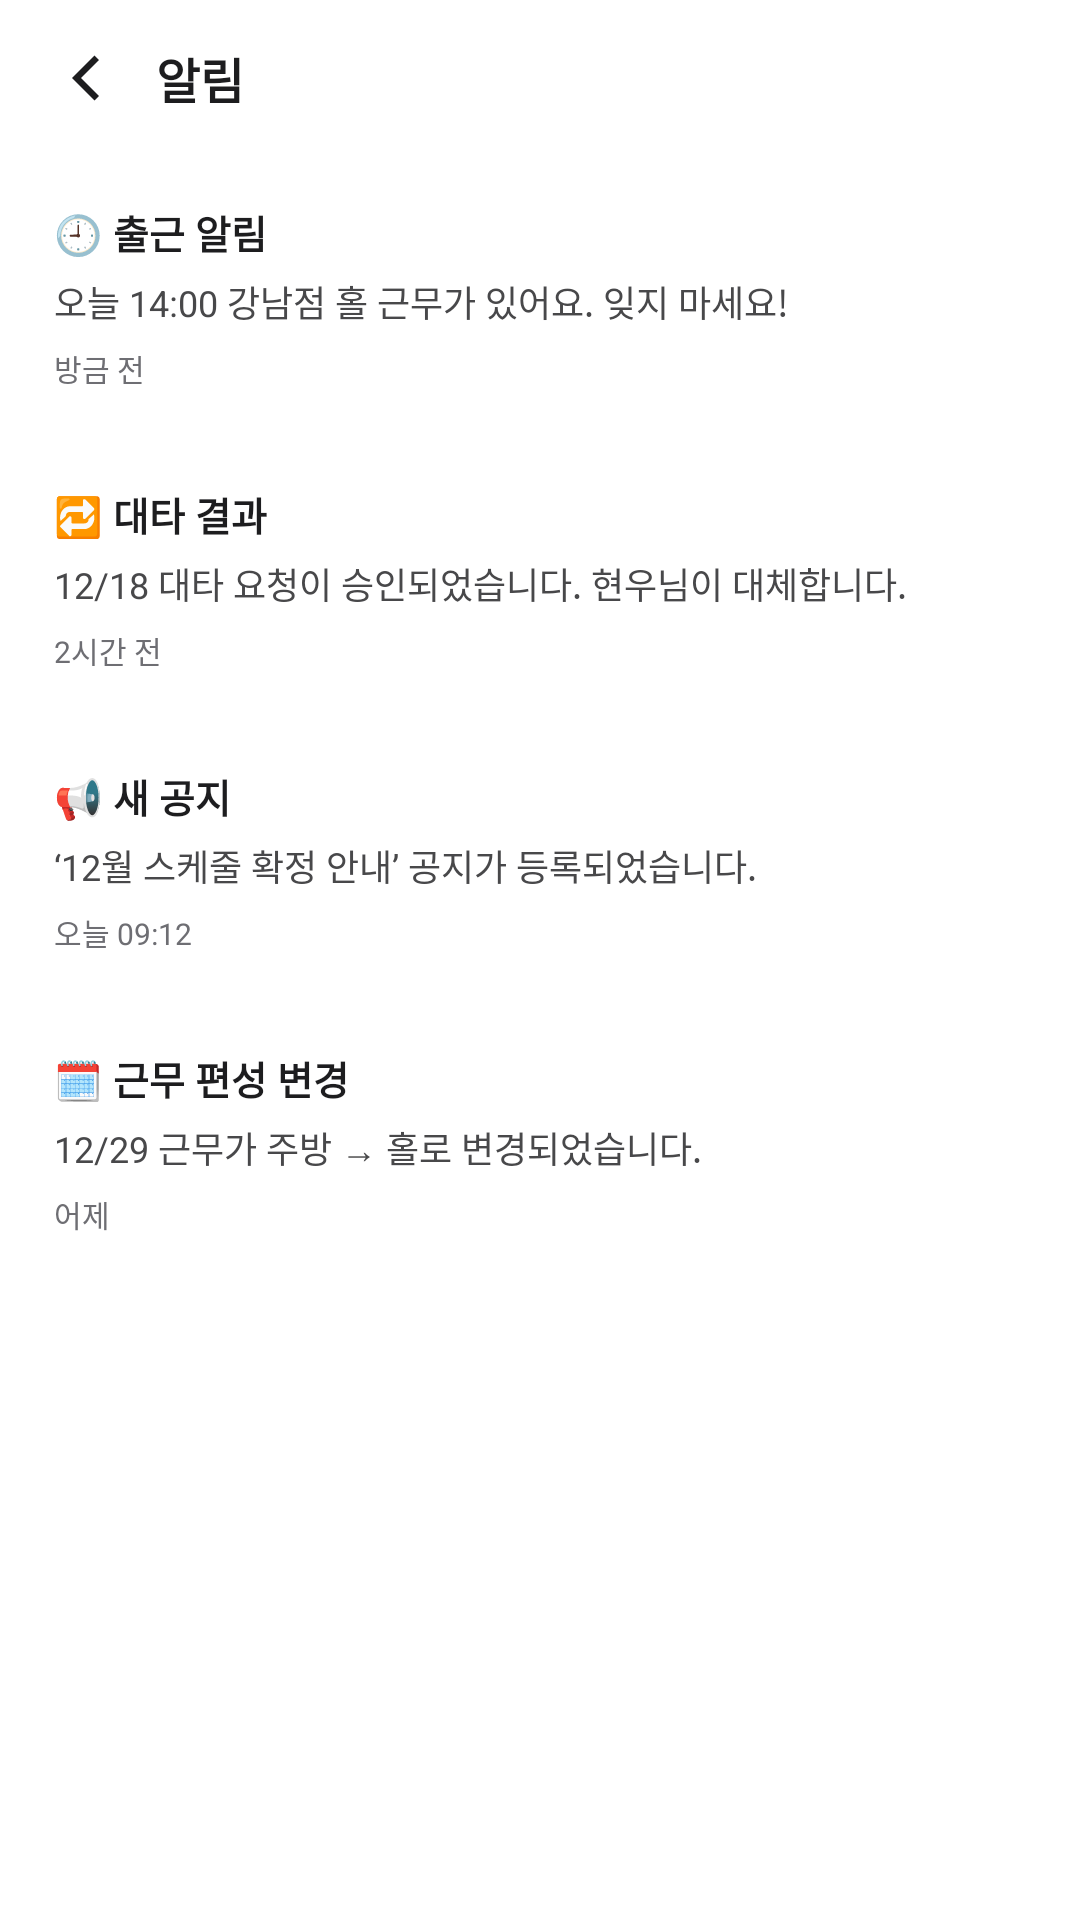

Icons on this 1080x1920 Android screen, each with its box as (x1, y1, x2, y2):
뒤로: (72, 55, 99, 101)
